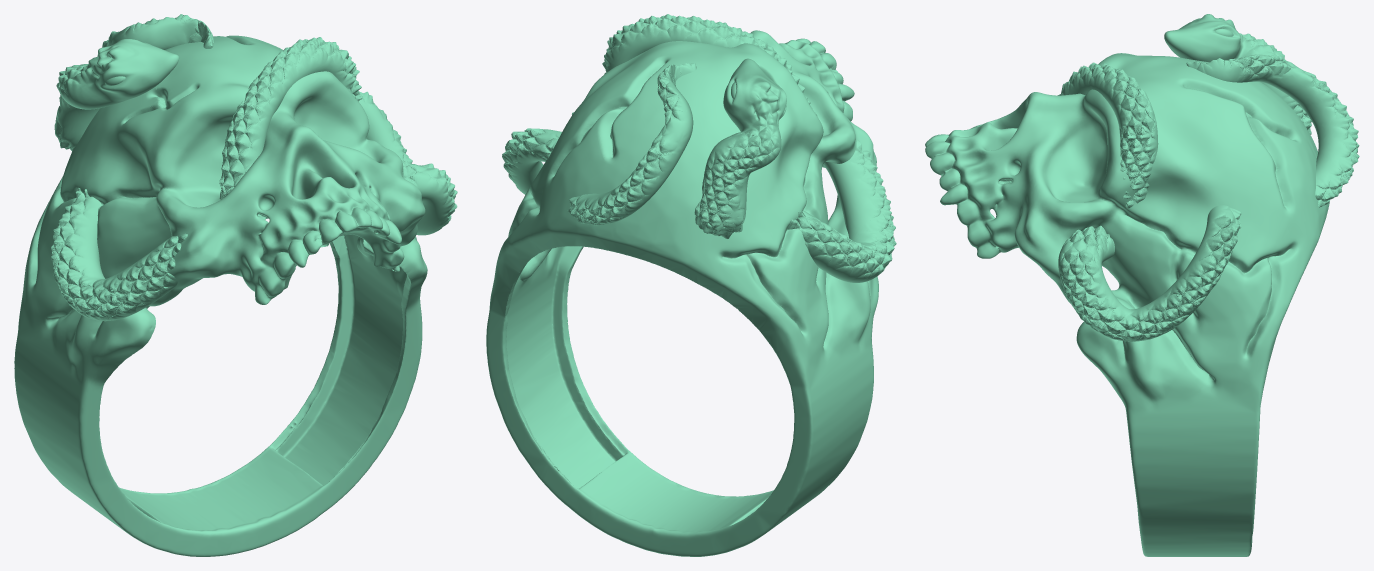
3 renders of one model, left to right at view 1: azimuth 30°, elevation 25°; view 2: azimuth 150°, elevation 25°; view 3: azimuth 270°, elevation 25°, orthographic. The views are drawn at different scales.
Parts seen in each view (by area): view 1: COLOR= MATERIAL= (×3); view 2: COLOR= MATERIAL= (×3); view 3: COLOR= MATERIAL= (×3).
Part boxes in pixels (x1,y1,x2,y2): COLOR= MATERIAL= (×3): [14, 14, 457, 556]; COLOR= MATERIAL= (×3): [486, 14, 896, 556]; COLOR= MATERIAL= (×3): [925, 14, 1359, 556].
Size of the model in its own units: 2.03 by 2.67 by 2.17.
